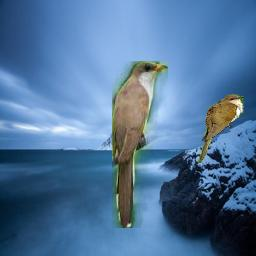Cuckoo: (112, 62, 168, 229), (198, 95, 245, 164)
